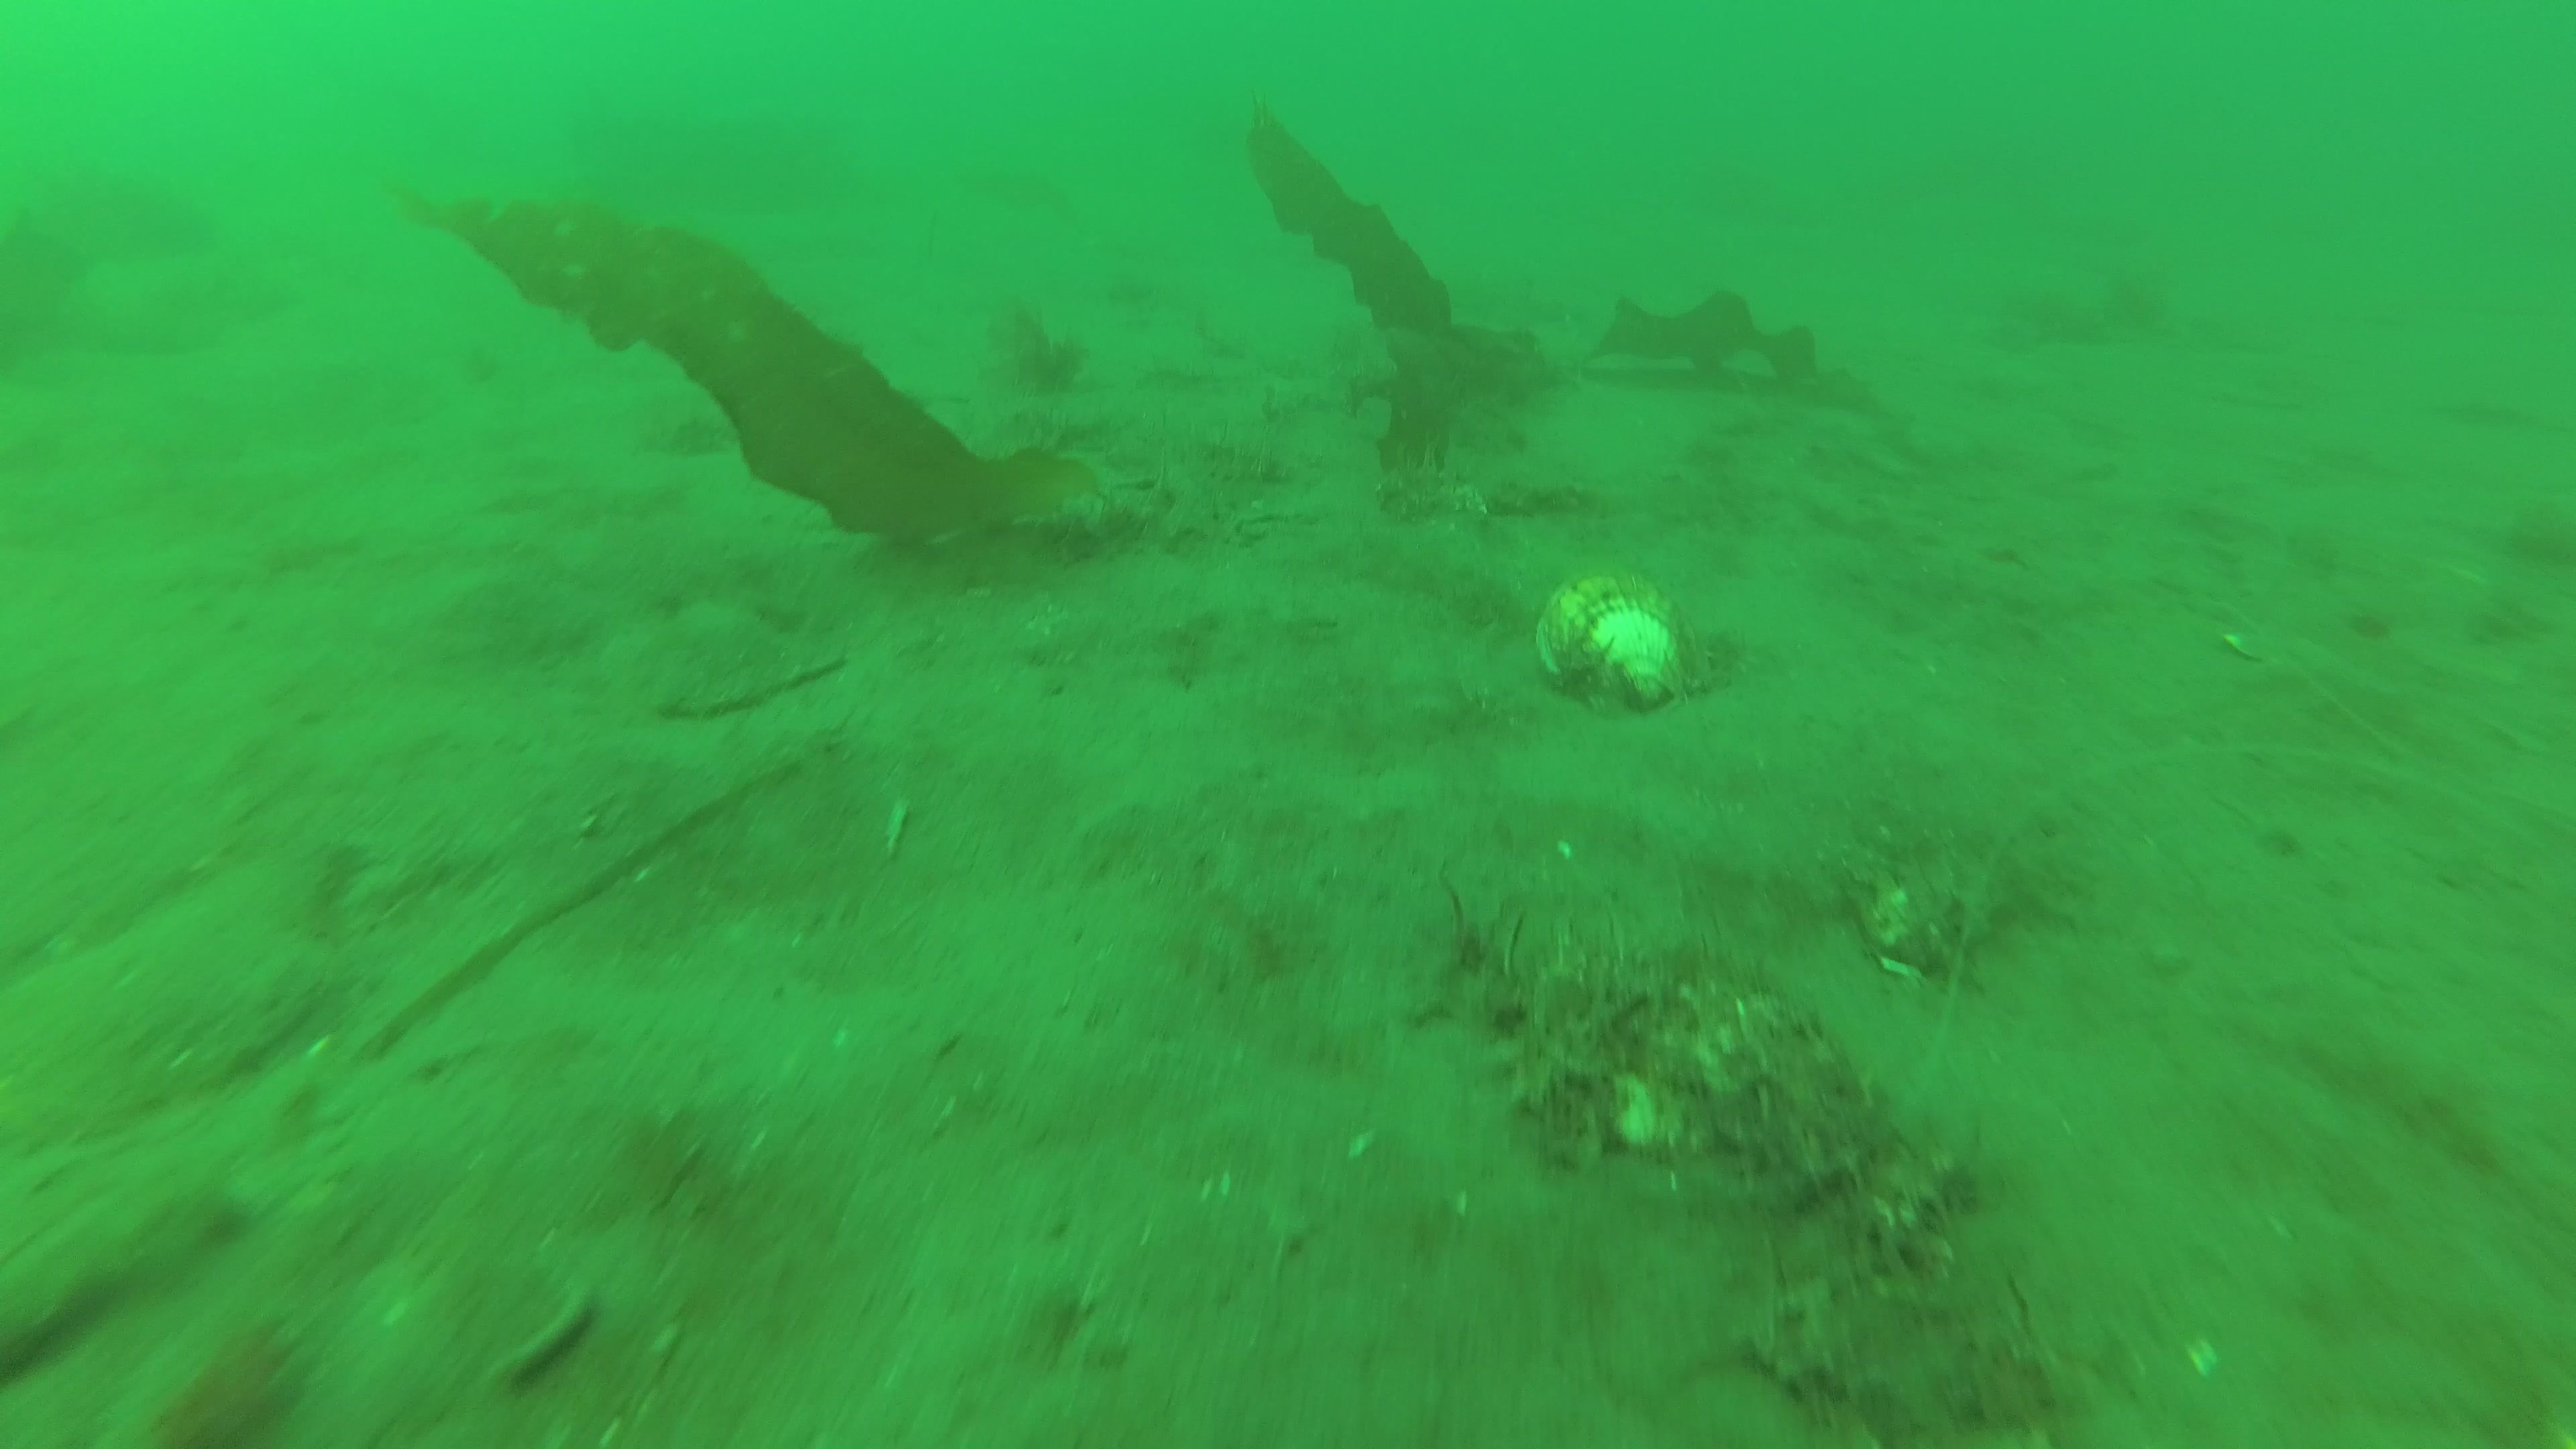scallop: (1539, 571, 1709, 717)
